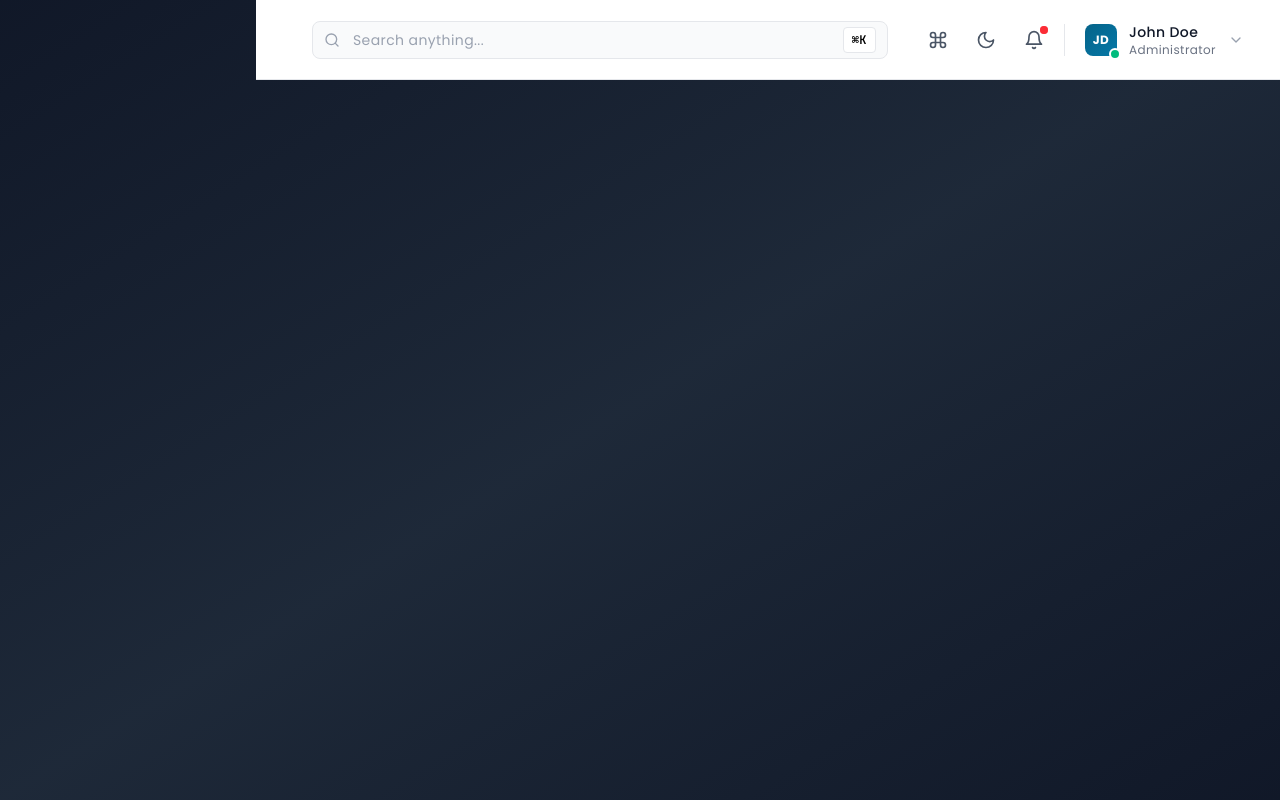
Test: Header Component › Profile Dropdown › should close profile dropdown when clicking outside
// Open dropdown
Click the button "JD John Doe Administrator".
click(1166, 40)  # box [1077,14,1256,66]
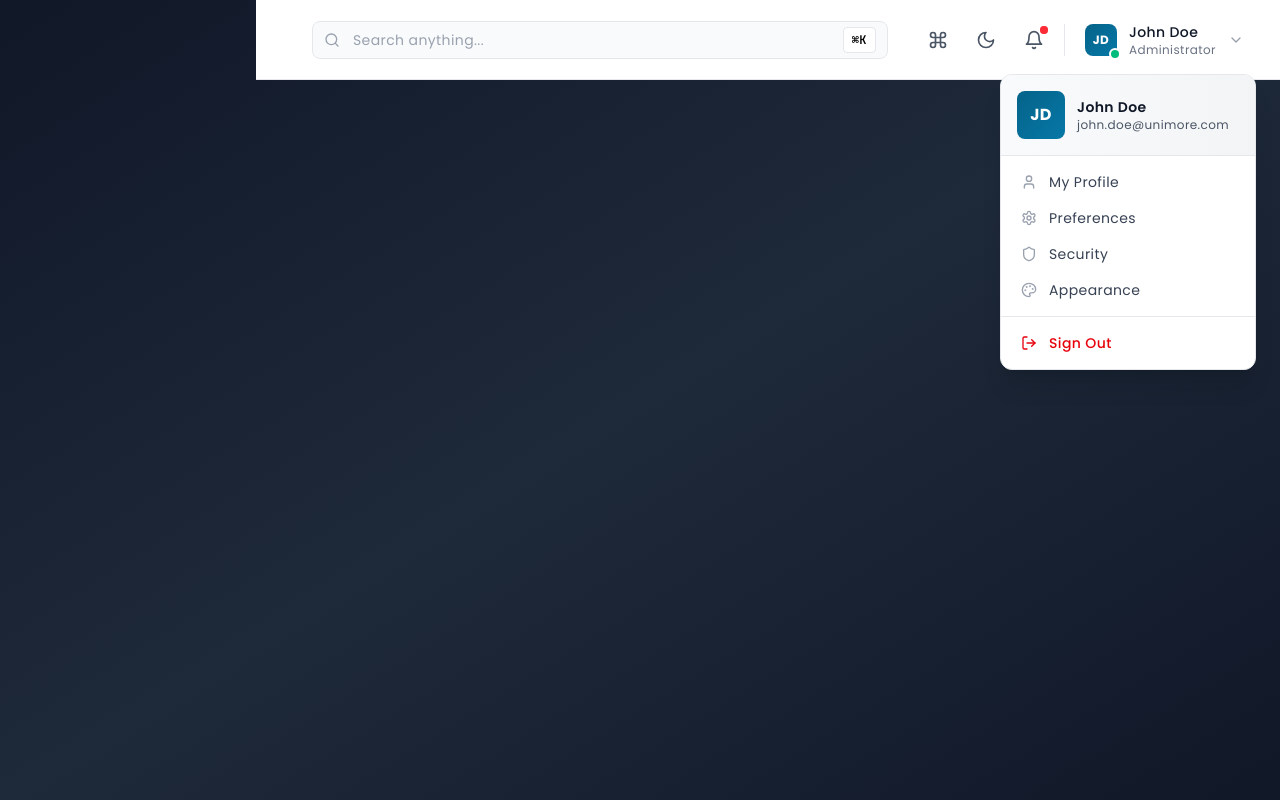
Now the text "My Profile" is shown, box [1049,172,1119,192]
// Click outside (on the overlay)
Click the element with class "inset-0".
click(640, 400)  # box [0,0,1279,799]
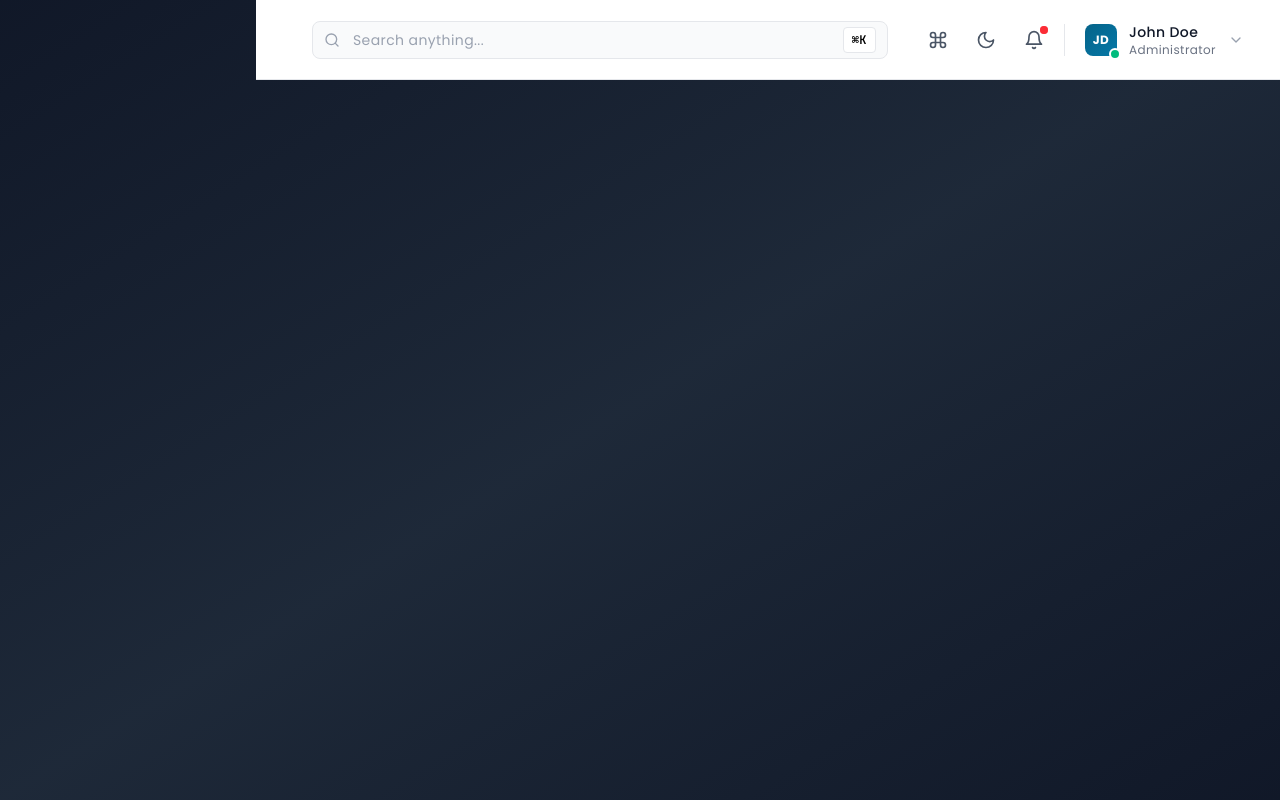
Now the button "My Profile" is gone
